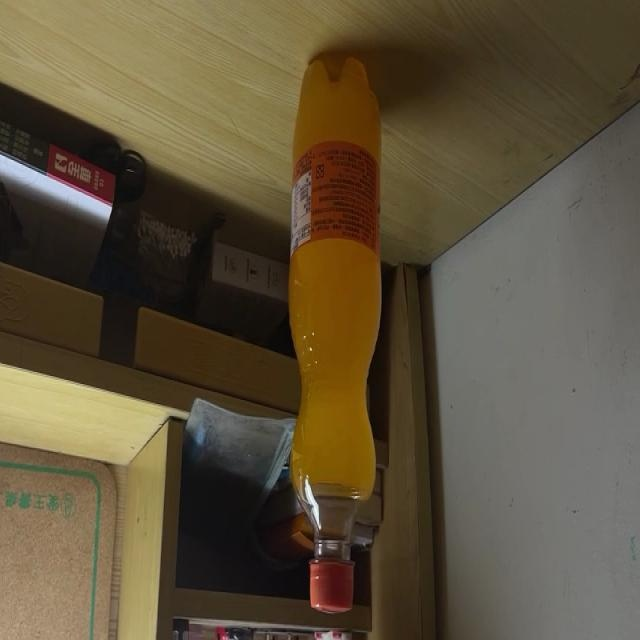Fanta: (288, 55, 384, 613)
